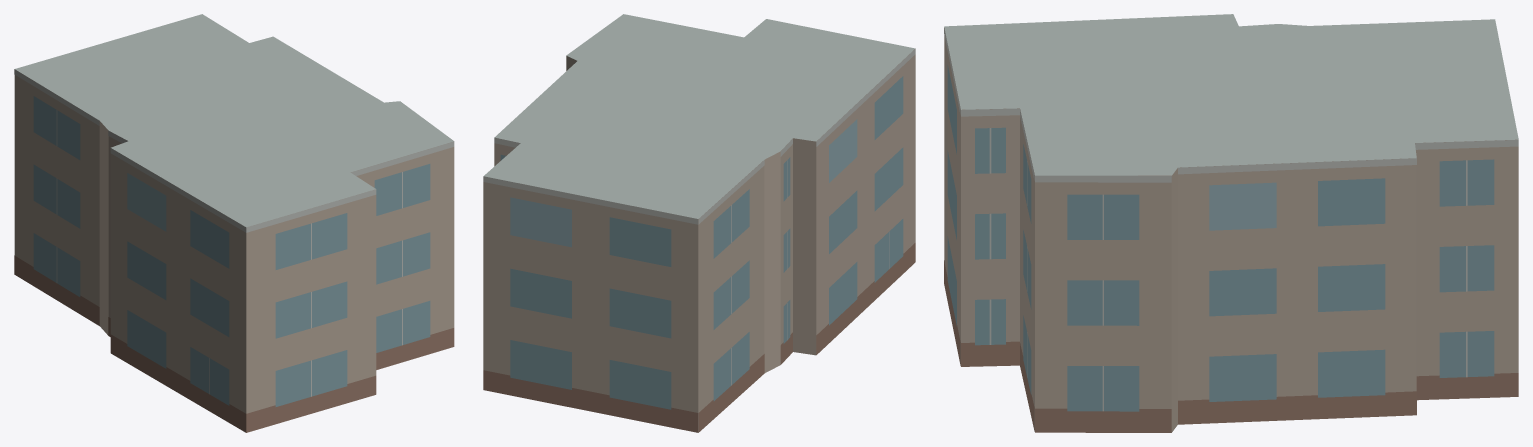
Rendered from survey-upis-32608948.glb.
3 views of the same model, side by side, from view 1: azimuth 30°, elevation 25°; view 2: azimuth 150°, elevation 25°; view 3: azimuth 270°, elevation 25° (orthographic). The views are drawn at different scales.
Parts seen in each view (by area): view 1: survey-upis-32608948.tmp; view 2: survey-upis-32608948.tmp; view 3: survey-upis-32608948.tmp.
Boxes of the visible parts, x1,y1,x2,y2 form: survey-upis-32608948.tmp: [14, 14, 454, 432]; survey-upis-32608948.tmp: [483, 14, 915, 432]; survey-upis-32608948.tmp: [944, 14, 1518, 432].
Size of the model in its own units: 12.36 by 9.15 by 18.55.
